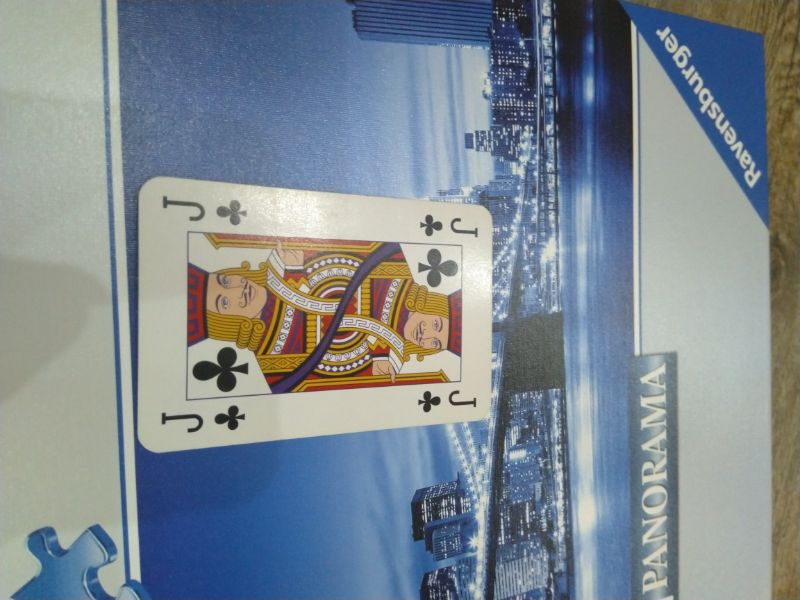Jc: (158, 192, 249, 229), (157, 403, 249, 438), (416, 211, 483, 243), (413, 387, 482, 418)
